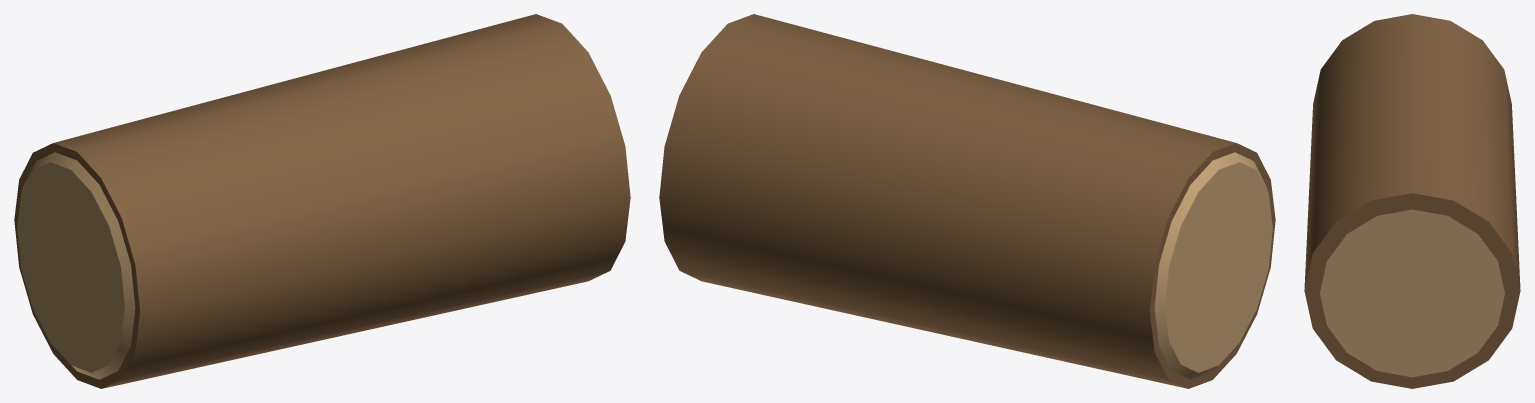
The model's file is fixture-elephant-log-v01.glb.
The picture shows the model from 3 angles, left to right: view 1: azimuth 30°, elevation 25°; view 2: azimuth 150°, elevation 25°; view 3: azimuth 270°, elevation 25°; orthographic projection. The views are drawn at different scales.
Visible parts, largest first — view 1: enrichment-log, merged-static; view 2: enrichment-log, merged-static; view 3: enrichment-log, merged-static.
Part boxes in pixels (x1,y1,x2,y2): enrichment-log: (14,14,630,388); merged-static: (17,152,135,379); enrichment-log: (659,14,1275,388); merged-static: (1154,152,1272,379); enrichment-log: (1304,14,1520,388); merged-static: (1320,209,1504,377).
Size of the model in its own units: 0.882 by 0.42 by 0.42.
